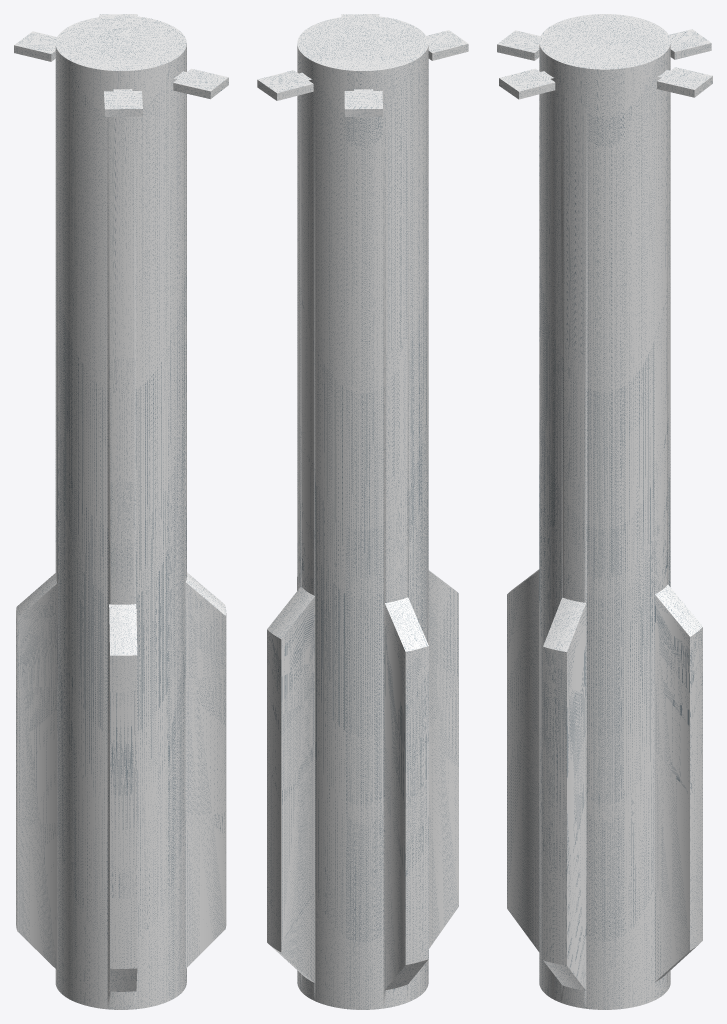
Rendered from booster.obj.
The picture shows the model from 3 angles, left to right: view 1: azimuth 30°, elevation 25°; view 2: azimuth 150°, elevation 25°; view 3: azimuth 270°, elevation 25°; orthographic projection.
Parts seen in each view (by area): view 1: Mesh9 Group7 Group1 Model, Mesh1 Group3 Group2 Group1 Model, Mesh5 Group5 Group2 Group1 Model, Mesh3 Group4 Group2 Group1 Model; view 2: Mesh9 Group7 Group1 Model, Mesh7 Group6 Group2 Group1 Model, Mesh3 Group4 Group2 Group1 Model, Mesh5 Group5 Group2 Group1 Model; view 3: Mesh9 Group7 Group1 Model, Mesh1 Group3 Group2 Group1 Model, Mesh7 Group6 Group2 Group1 Model, Mesh5 Group5 Group2 Group1 Model, Mesh3 Group4 Group2 Group1 Model.
Boxes of the visible parts, x1=… form: Mesh9 Group7 Group1 Model: x1=16, y1=15, x2=226, y2=1009; Mesh1 Group3 Group2 Group1 Model: x1=173, y1=68, x2=228, y2=99; Mesh5 Group5 Group2 Group1 Model: x1=104, y1=89, x2=142, y2=116; Mesh3 Group4 Group2 Group1 Model: x1=14, y1=31, x2=56, y2=61; Mesh9 Group7 Group1 Model: x1=267, y1=15, x2=458, y2=1009; Mesh7 Group6 Group2 Group1 Model: x1=257, y1=70, x2=313, y2=100; Mesh3 Group4 Group2 Group1 Model: x1=344, y1=89, x2=382, y2=116; Mesh5 Group5 Group2 Group1 Model: x1=426, y1=30, x2=468, y2=60; Mesh9 Group7 Group1 Model: x1=507, y1=14, x2=702, y2=1009; Mesh1 Group3 Group2 Group1 Model: x1=499, y1=68, x2=555, y2=99; Mesh7 Group6 Group2 Group1 Model: x1=657, y1=67, x2=712, y2=97; Mesh5 Group5 Group2 Group1 Model: x1=497, y1=30, x2=540, y2=60; Mesh3 Group4 Group2 Group1 Model: x1=669, y1=29, x2=711, y2=59.
Size of the model in its own units: 1343 by 7100 by 1477.
